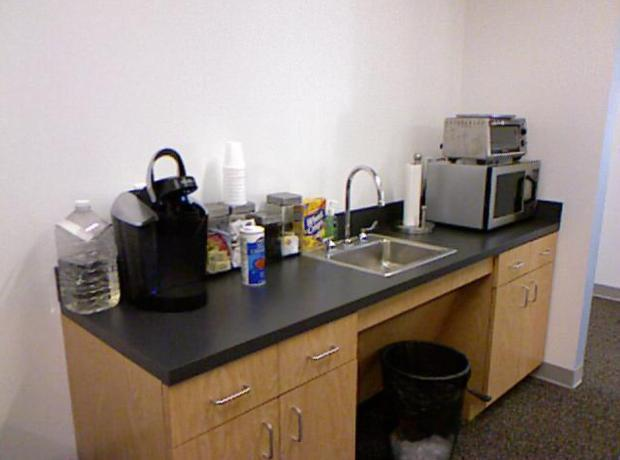Bote de Basura: (380, 338, 471, 459)
Lavaplatos: (301, 161, 465, 286)
